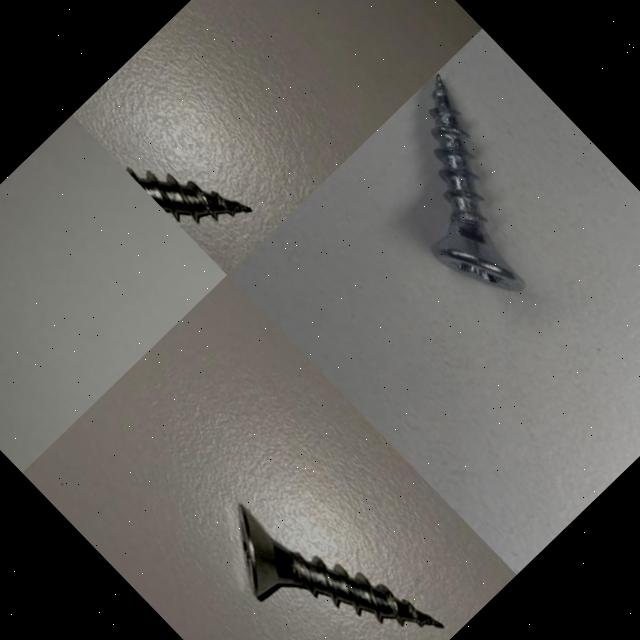Screw: (340, 70, 592, 324), (238, 503, 444, 627), (127, 167, 252, 221)
